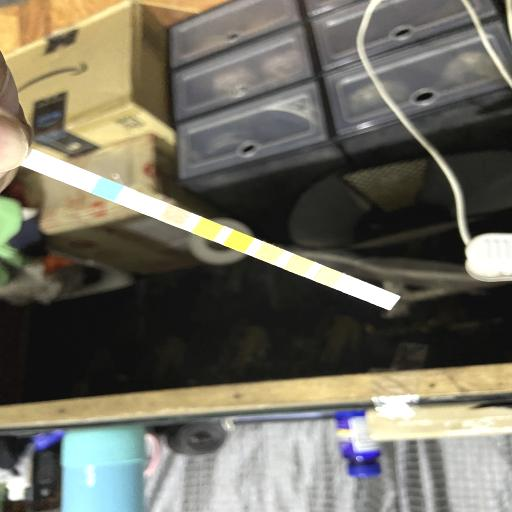Bilirubin: (132, 196, 150, 210)
Blood: (230, 236, 247, 248)
Glucose: (98, 182, 116, 196)
Ketone: (165, 209, 183, 223)
Leukocytes: (379, 294, 393, 306)
Nitrite: (350, 282, 366, 296)
Protein: (292, 259, 306, 272)
SpGravity: (198, 223, 216, 236)
Urobilinogen: (322, 270, 336, 284)
pH: (261, 247, 277, 260)
strip: (25, 151, 401, 310)
